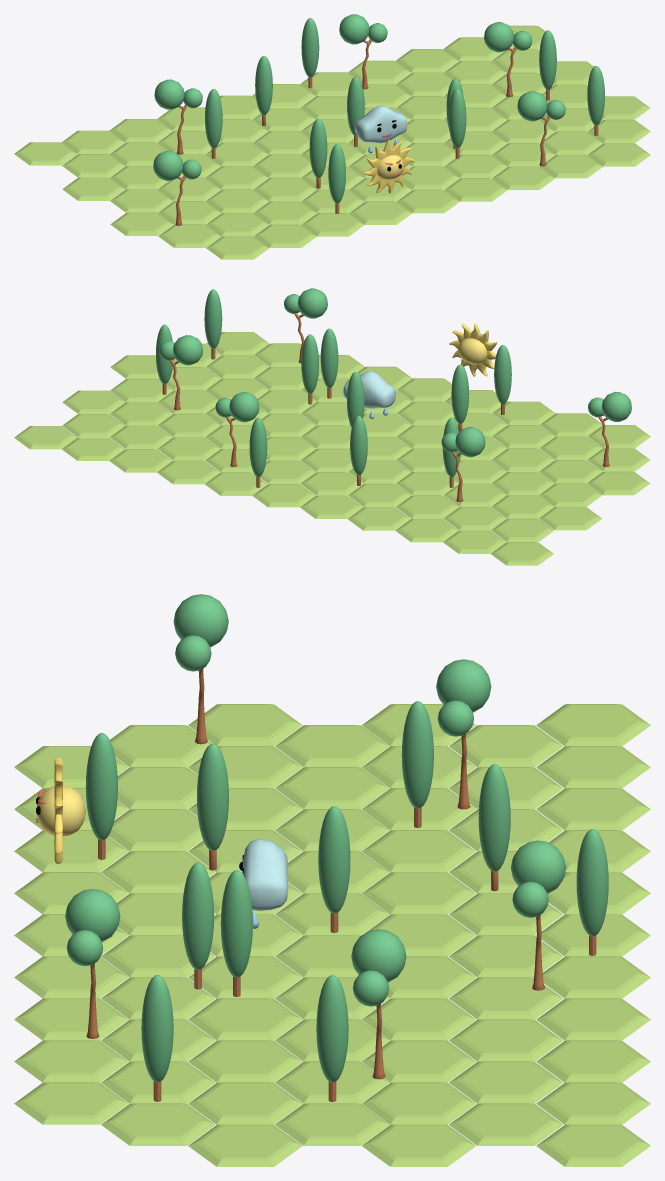
The model's file is scena2.gltf.
The picture shows the model from 3 angles, top to bottom: view 1: azimuth 30°, elevation 25°; view 2: azimuth 150°, elevation 25°; view 3: azimuth 270°, elevation 25°; orthographic projection. The views are drawn at different scales.
Visible parts, largest first — view 1: Sunnie, Clyde, Bonsai.001, Bonsai, Bonsai.002, Bonsai.004, Bonsai.003, Polje_3_3, Polje_1_4, Polje_4_0, Polje_4_2, Polje_1_0 (+75 smaller); view 2: Sunnie, Bonsai, Bonsai.004, Bonsai.001, Bonsai.003, Polje_7_7, Polje_3_0, Polje_5_8, Polje_6_3, Bonsai.002, Polje_4_1, Polje_1_1 (+76 smaller); view 3: Polje_6_9, Polje_3_10, Polje_5_9, Polje_6_7, Polje_6_8, Polje_7_7, Polje_7_10, Polje_4_9, Polje_2_9, Polje_3_9, Polje_5_4, Polje_7_8 (+77 smaller).
Boxes of the visible parts, x1,y1,x2,y2 form: Sunnie: [363, 140, 414, 193]; Clyde: [355, 105, 406, 153]; Bonsai.001: [153, 150, 201, 225]; Bonsai: [154, 79, 202, 154]; Bonsai.002: [517, 91, 565, 166]; Bonsai.004: [339, 14, 387, 89]; Bonsai.003: [484, 22, 532, 97]; Polje_3_3: [253, 177, 316, 201]; Polje_1_4: [397, 189, 459, 213]; Polje_4_0: [110, 189, 173, 212]; Polje_4_2: [205, 166, 268, 189]; Polje_1_0: [206, 236, 269, 259]; Sunnie: [449, 323, 497, 376]; Bonsai: [441, 427, 485, 502]; Bonsai.004: [215, 392, 259, 467]; Bonsai.001: [588, 392, 631, 466]; Bonsai.003: [159, 335, 202, 410]; Polje_7_7: [157, 460, 220, 484]; Polje_3_0: [587, 471, 649, 495]; Polje_5_8: [157, 413, 220, 437]; Polje_6_3: [348, 483, 411, 507]; Bonsai.002: [284, 288, 327, 363]; Polje_4_1: [491, 472, 554, 495]; Polje_1_1: [540, 413, 602, 436]; Polje_6_9: [449, 1103, 563, 1145]; Polje_3_10: [188, 1124, 302, 1166]; Polje_5_9: [362, 1082, 475, 1124]; Polje_6_7: [449, 1019, 563, 1061]; Polje_6_8: [449, 1061, 563, 1103]; Polje_7_7: [536, 998, 650, 1040]; Polje_7_10: [536, 1124, 650, 1166]; Polje_4_9: [275, 1103, 389, 1145]; Polje_2_9: [101, 1103, 215, 1145]; Polje_3_9: [188, 1082, 302, 1124]; Polje_5_4: [362, 872, 476, 914]; Polje_7_8: [536, 1040, 650, 1082].
Size of the model in its own units: 19.05 by 2.71 by 11.09.
12 materials, 12 textured.
